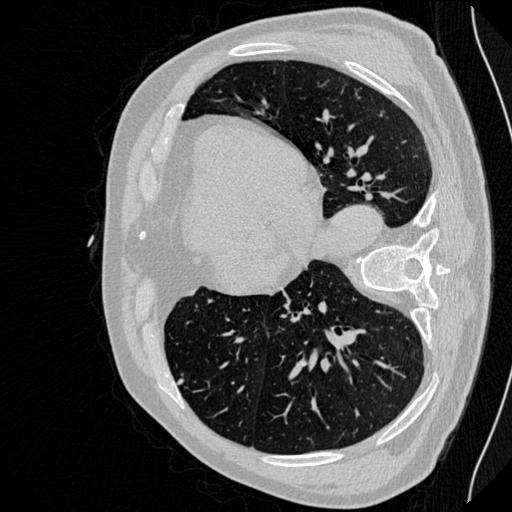nodule: (175, 378, 186, 389)
